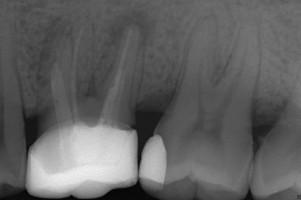Furcation Involvement: (108, 9, 154, 50)
